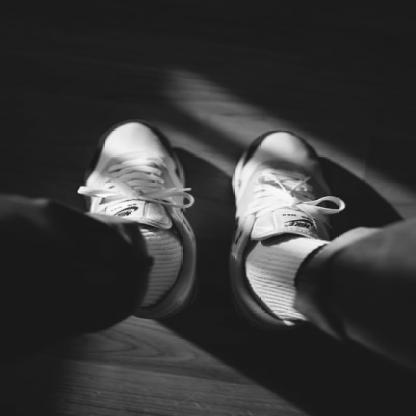ankle: (174, 248, 183, 254), (248, 261, 257, 267)
heel: (264, 321, 271, 326), (153, 313, 161, 317)
left_foot: (83, 120, 198, 320)
pinky: (317, 167, 326, 175), (89, 170, 98, 176)
right_foot: (233, 129, 339, 331)
toe: (250, 143, 260, 152), (154, 133, 162, 139)
